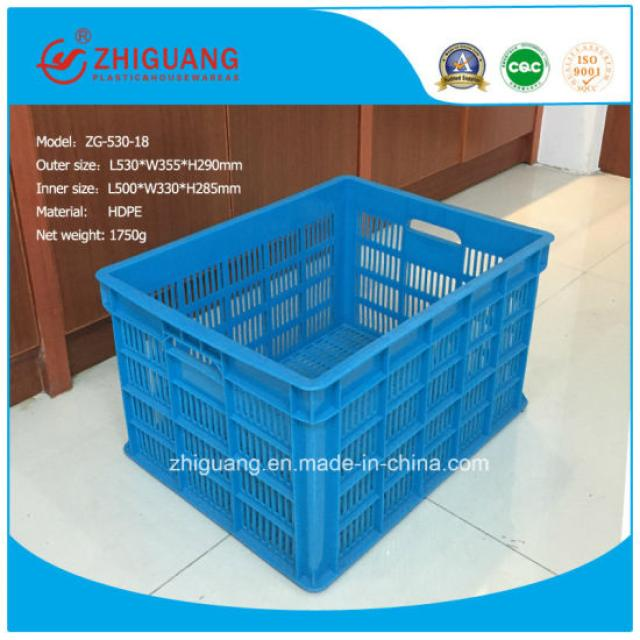basket: (23, 30, 626, 628)
